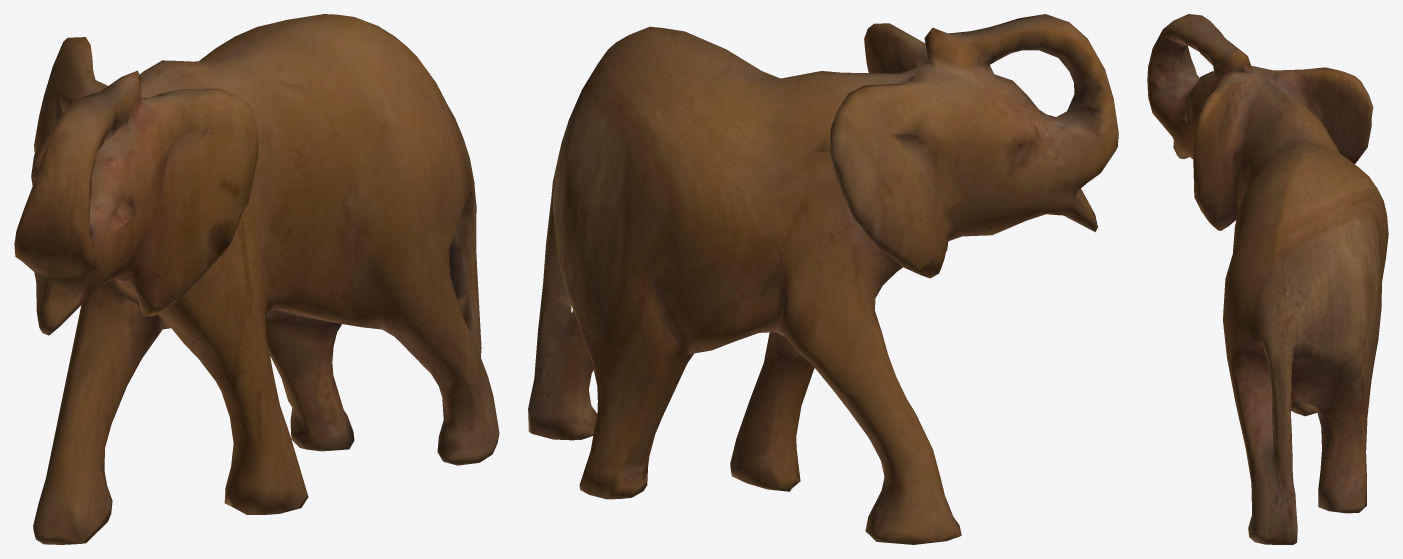
File: carved_wooden_elephant.glb
3 views of the same model, side by side, from view 1: azimuth 30°, elevation 25°; view 2: azimuth 150°, elevation 25°; view 3: azimuth 270°, elevation 25° (orthographic). The views are drawn at different scales.
Visible parts, largest first — view 1: carved_wooden_elephant; view 2: carved_wooden_elephant; view 3: carved_wooden_elephant.
Part boxes in pixels (x1,y1,x2,y2): carved_wooden_elephant: (14,14,499,544); carved_wooden_elephant: (528,14,1118,544); carved_wooden_elephant: (1147,14,1388,544).
Size of the model in its own units: 0.1092 by 0.0961 by 0.0576.
Materials: 1 (1 with a texture image).
